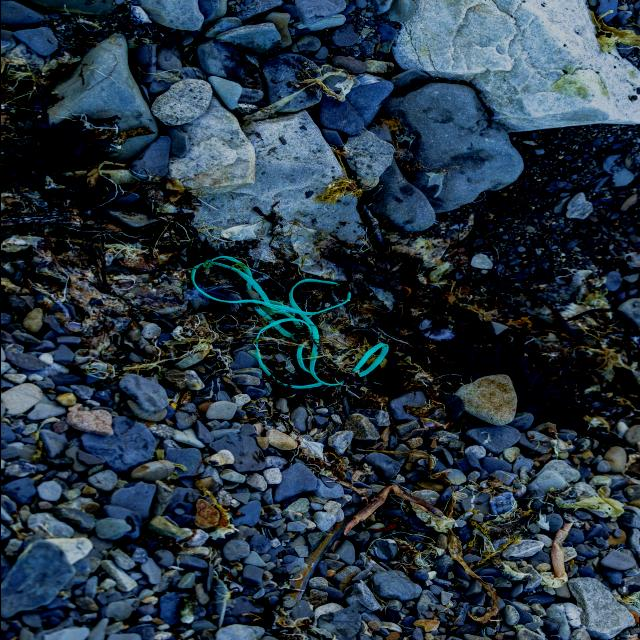Rope - strings: (189, 256, 386, 389)
